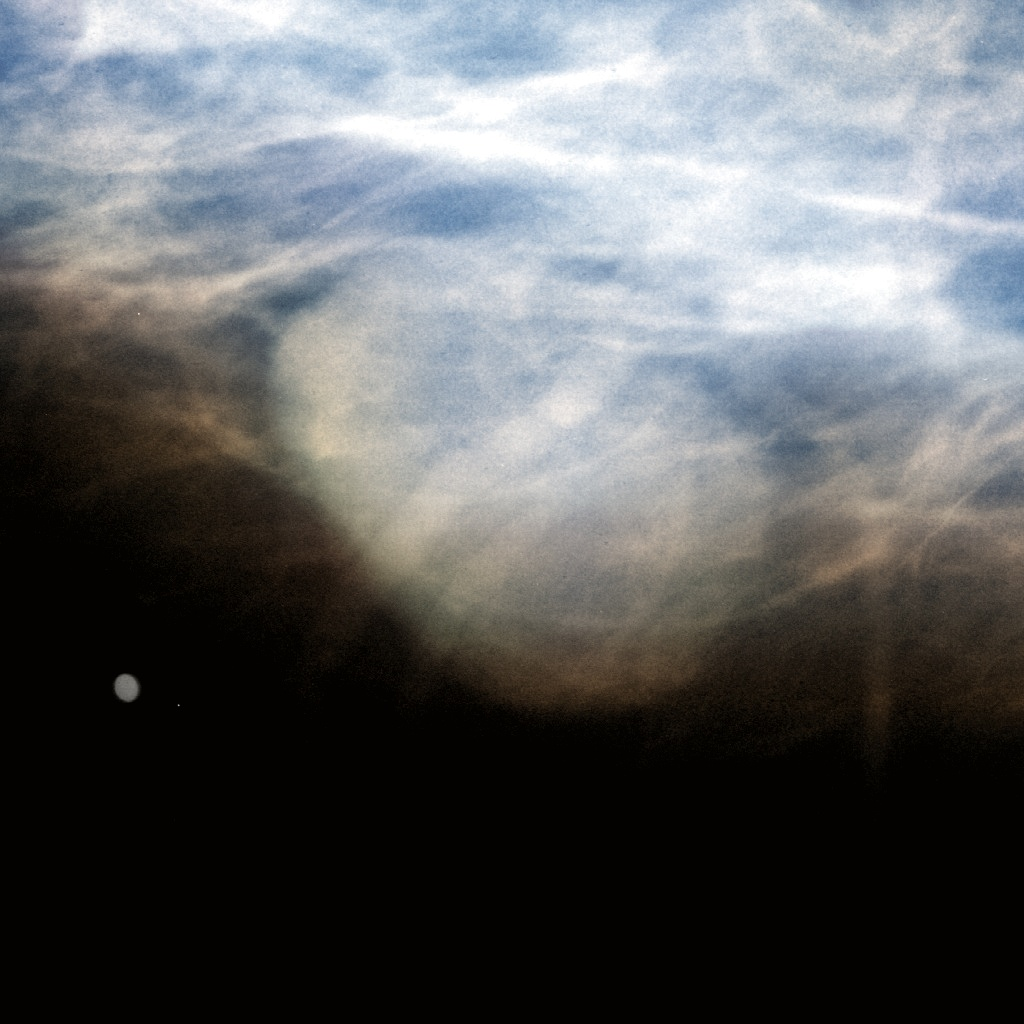tumor: (218, 301, 806, 723)
